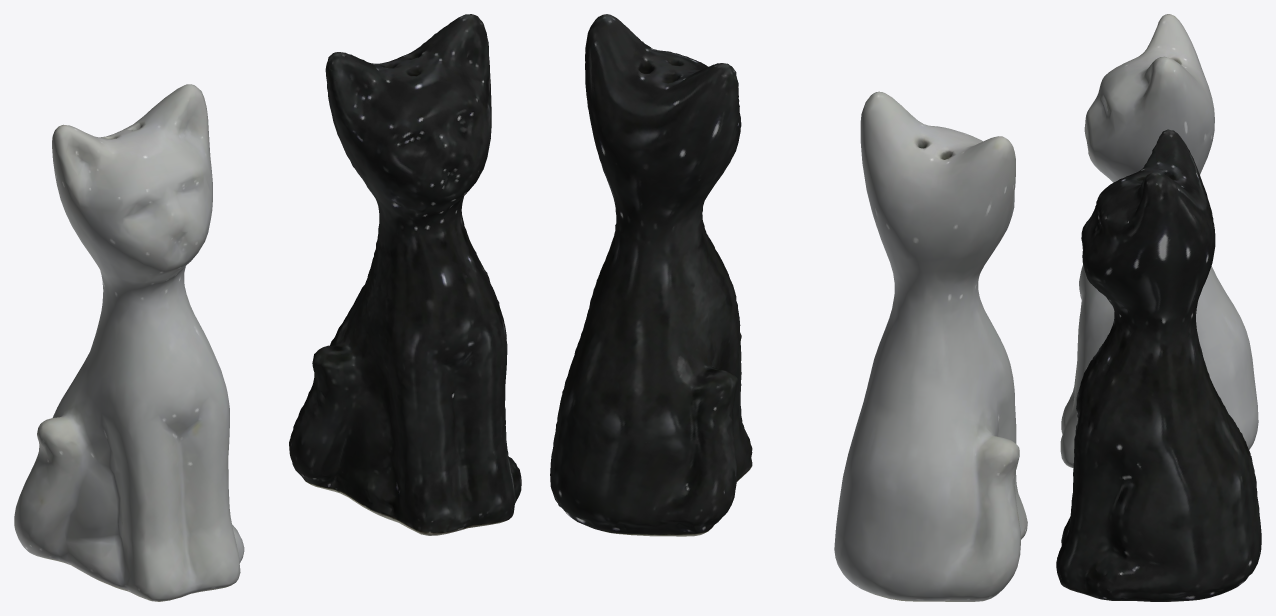
The picture shows the model from 3 angles, left to right: view 1: azimuth 30°, elevation 25°; view 2: azimuth 150°, elevation 25°; view 3: azimuth 270°, elevation 25°; orthographic projection. The views are drawn at different scales.
Parts seen in each view (by area): view 1: Object; view 2: Object; view 3: Object.
Boxes of the visible parts, <box> form: Object: <box>14,14,521,601</box>; Object: <box>550,14,1027,601</box>; Object: <box>1056,14,1261,601</box>.
Size of the model in its own units: 0.1179 by 0.115 by 0.0507.
1 material, 1 textured.
